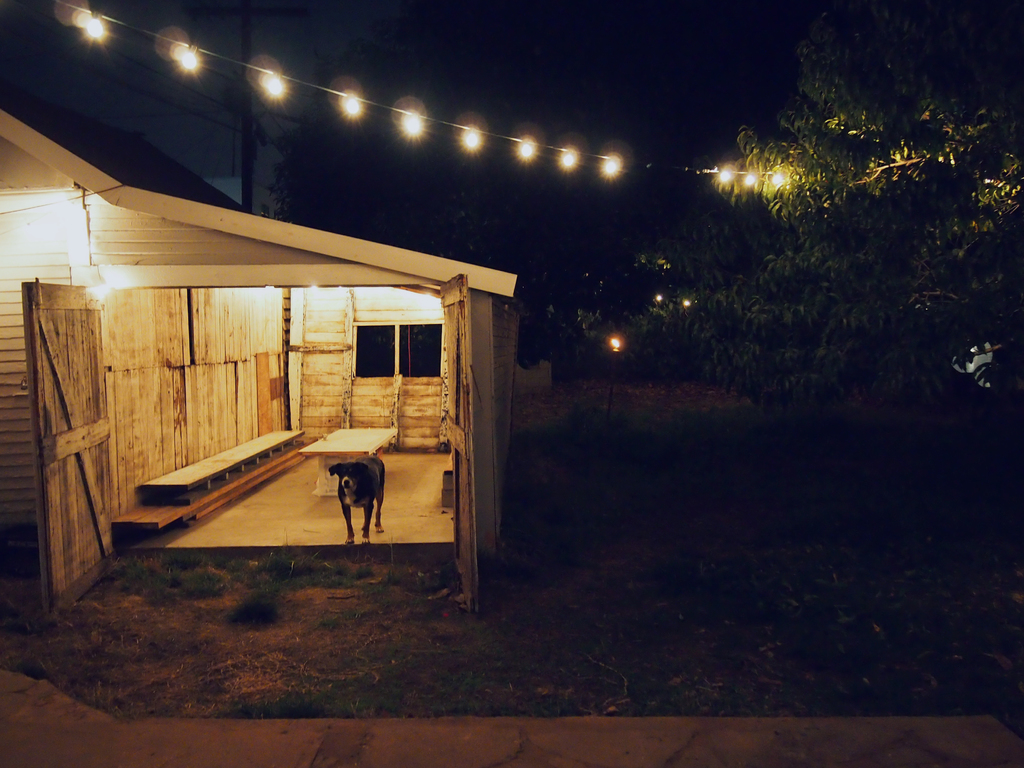Animal: (326, 454, 384, 547)
